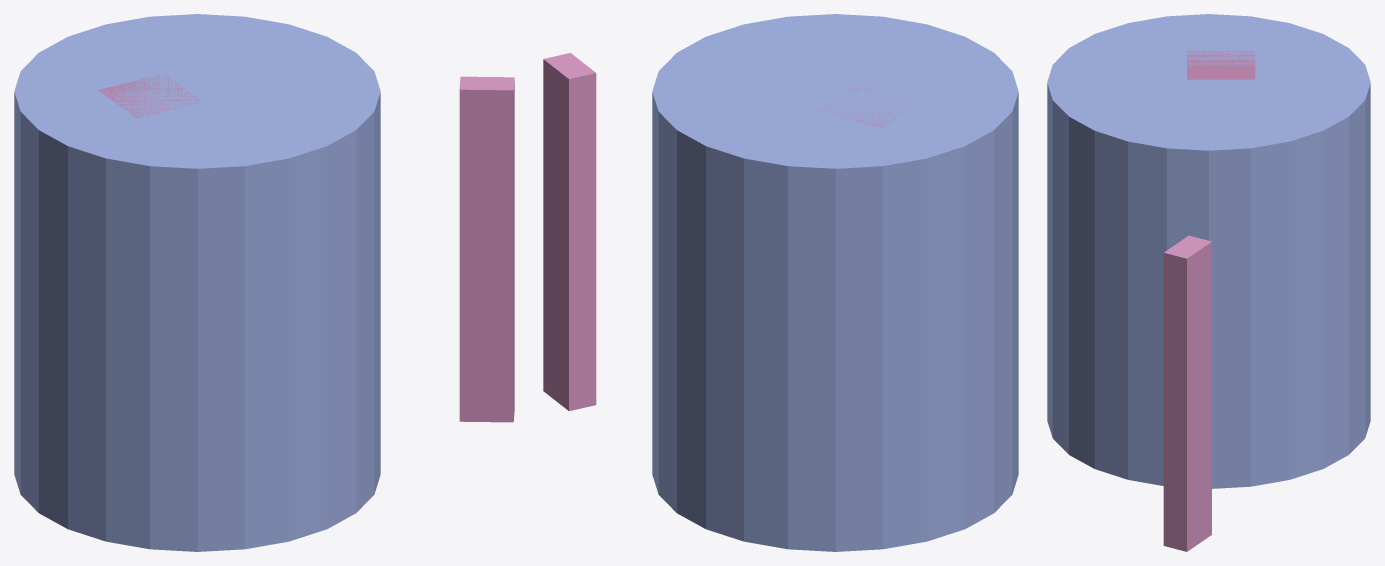
File: folie_tag_086.glb
3 views of the same model, side by side, from view 1: azimuth 30°, elevation 25°; view 2: azimuth 150°, elevation 25°; view 3: azimuth 270°, elevation 25° (orthographic). The views are drawn at different scales.
Visible parts, largest first — view 1: folie_tag_086_00_drum, folie_tag_086_01_fin, folie_tag_086_core; view 2: folie_tag_086_00_drum, folie_tag_086_01_fin; view 3: folie_tag_086_00_drum, folie_tag_086_01_fin, folie_tag_086_core.
Boxes of the visible parts, x1,y1,x2,y2 form: folie_tag_086_00_drum: (14,14,380,551); folie_tag_086_01_fin: (459,76,514,422); folie_tag_086_core: (98,74,201,117); folie_tag_086_00_drum: (652,14,1018,551); folie_tag_086_01_fin: (543,53,596,411); folie_tag_086_00_drum: (1047,14,1370,488); folie_tag_086_01_fin: (1163,235,1211,551); folie_tag_086_core: (1187,50,1255,79).
Size of the model in its own units: 7.59 by 6 by 5.2.
